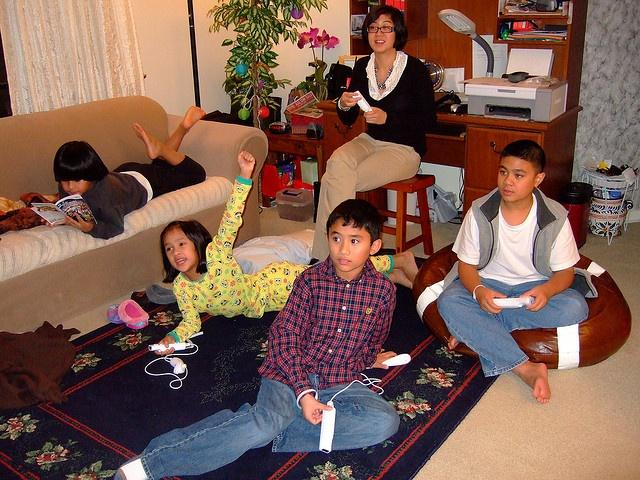Printer: (463, 47, 567, 122)
